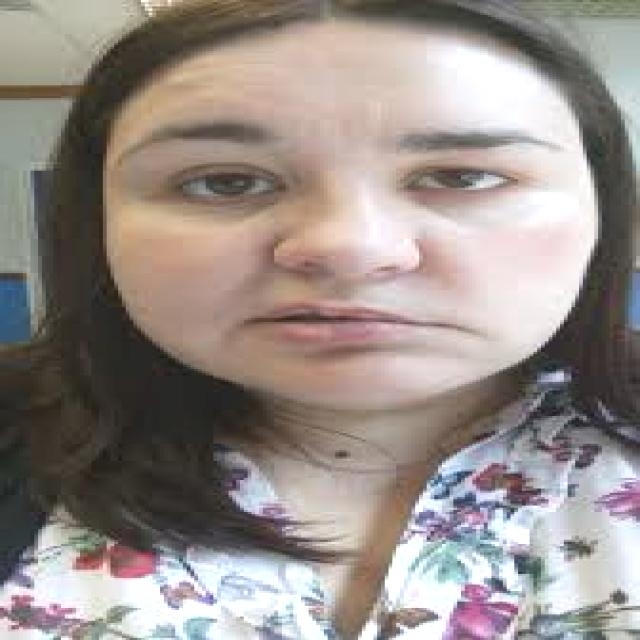stroke_face: (105, 18, 587, 410)
